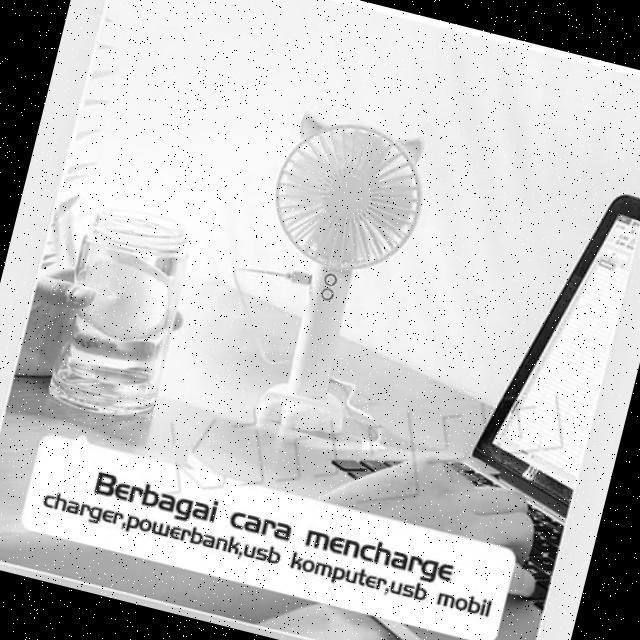fan: (212, 97, 439, 446)
